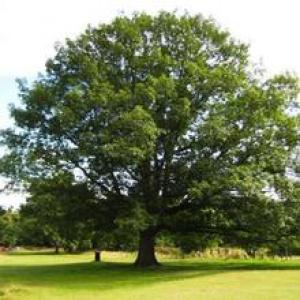Tree: (3, 4, 297, 267)
